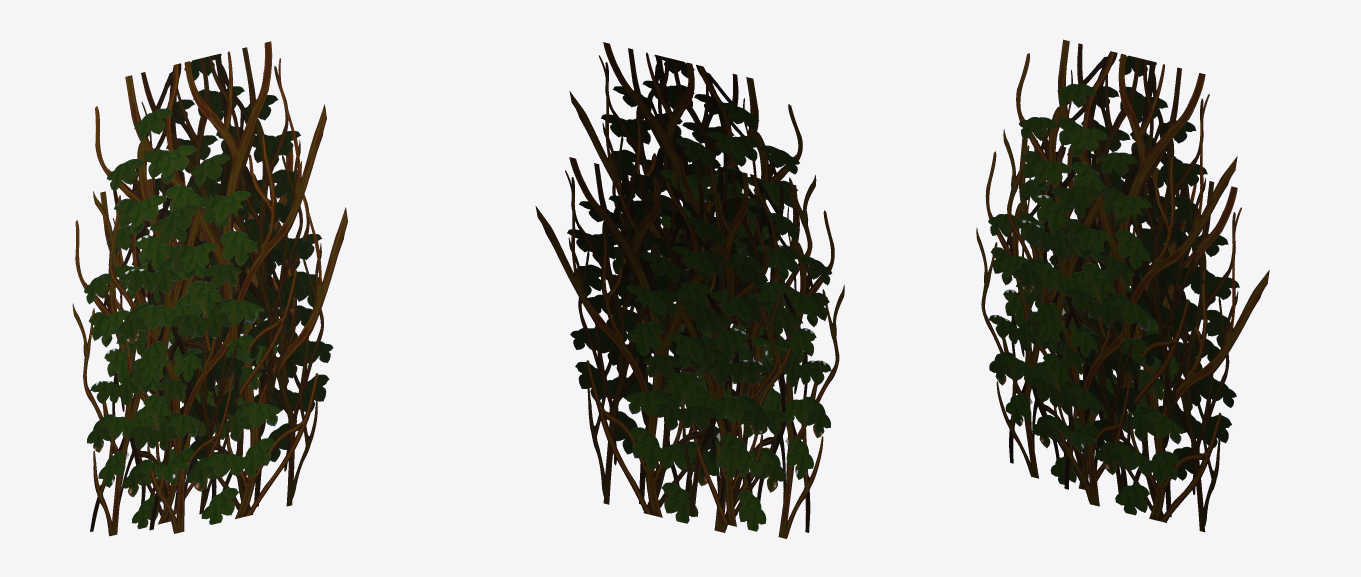
File: VEG_PLA_lierre_branches.FBX
3 renders of one model, left to right at view 1: azimuth 30°, elevation 25°; view 2: azimuth 150°, elevation 25°; view 3: azimuth 330°, elevation 25°, orthographic. The views are drawn at different scales.
Visible parts, largest first — view 1: VEG_PLA_lierre_branches_LOD0; view 2: VEG_PLA_lierre_branches_LOD0; view 3: VEG_PLA_lierre_branches_LOD0.
Boxes of the visible parts, <box> form: VEG_PLA_lierre_branches_LOD0: <box>72,41,347,536</box>; VEG_PLA_lierre_branches_LOD0: <box>535,42,844,538</box>; VEG_PLA_lierre_branches_LOD0: <box>976,39,1269,532</box>.
Size of what is drawn, in the model's own units: 128 by 139 by 15.22.
1 material, 1 textured.
